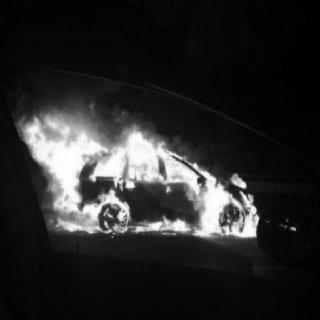Fire: (21, 107, 257, 234)
